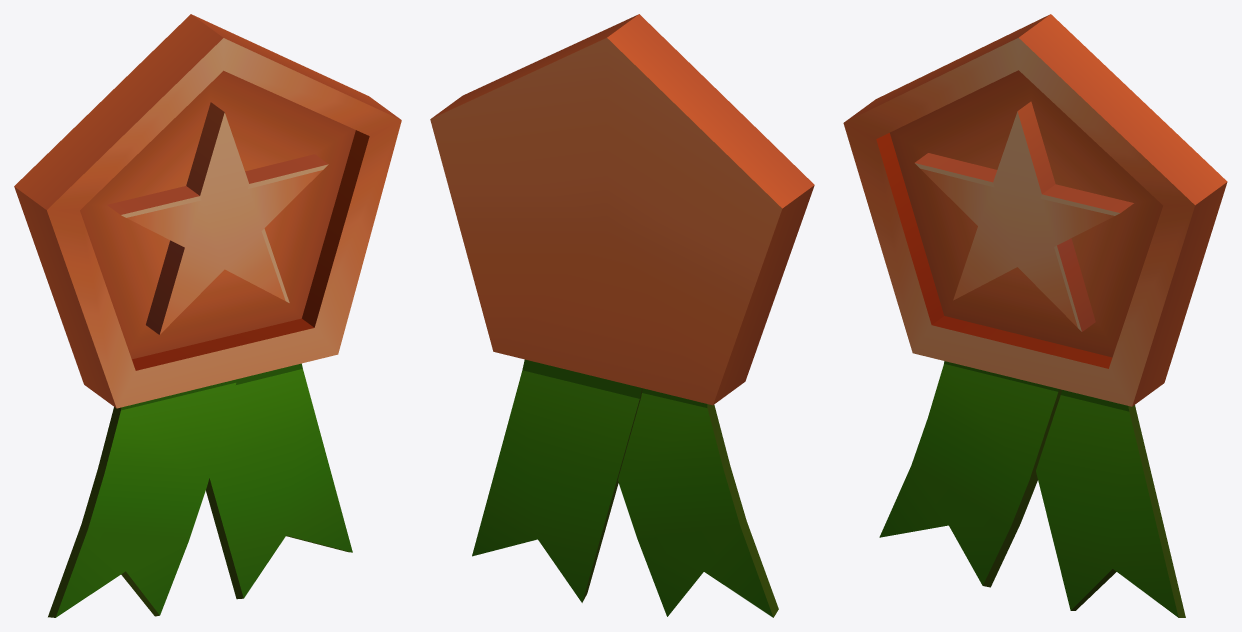
File: toprunBronze.glb
3 views of the same model, side by side, from view 1: azimuth 30°, elevation 25°; view 2: azimuth 150°, elevation 25°; view 3: azimuth 330°, elevation 25° (orthographic).
Visible parts, largest first — view 1: toprunBronze; view 2: toprunBronze; view 3: toprunBronze.
Part boxes in pixels (x1=…): toprunBronze: x1=14, y1=14, x2=401, y2=617; toprunBronze: x1=430, y1=14, x2=814, y2=617; toprunBronze: x1=843, y1=14, x2=1227, y2=617.
Size of the model in its own units: 6.03 by 9.52 by 0.9933.
Materials: 1 (1 with a texture image).
